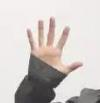down: (23, 15, 85, 88)
